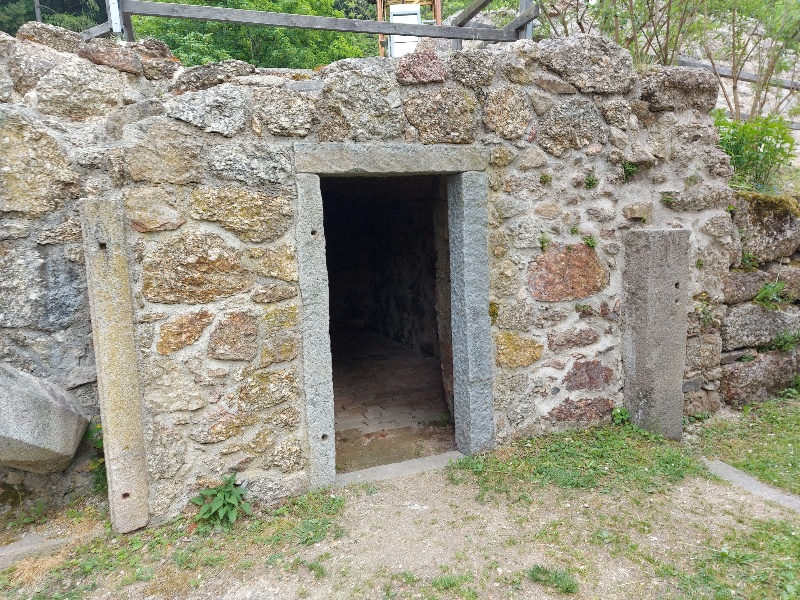door2: (271, 127, 513, 485)
